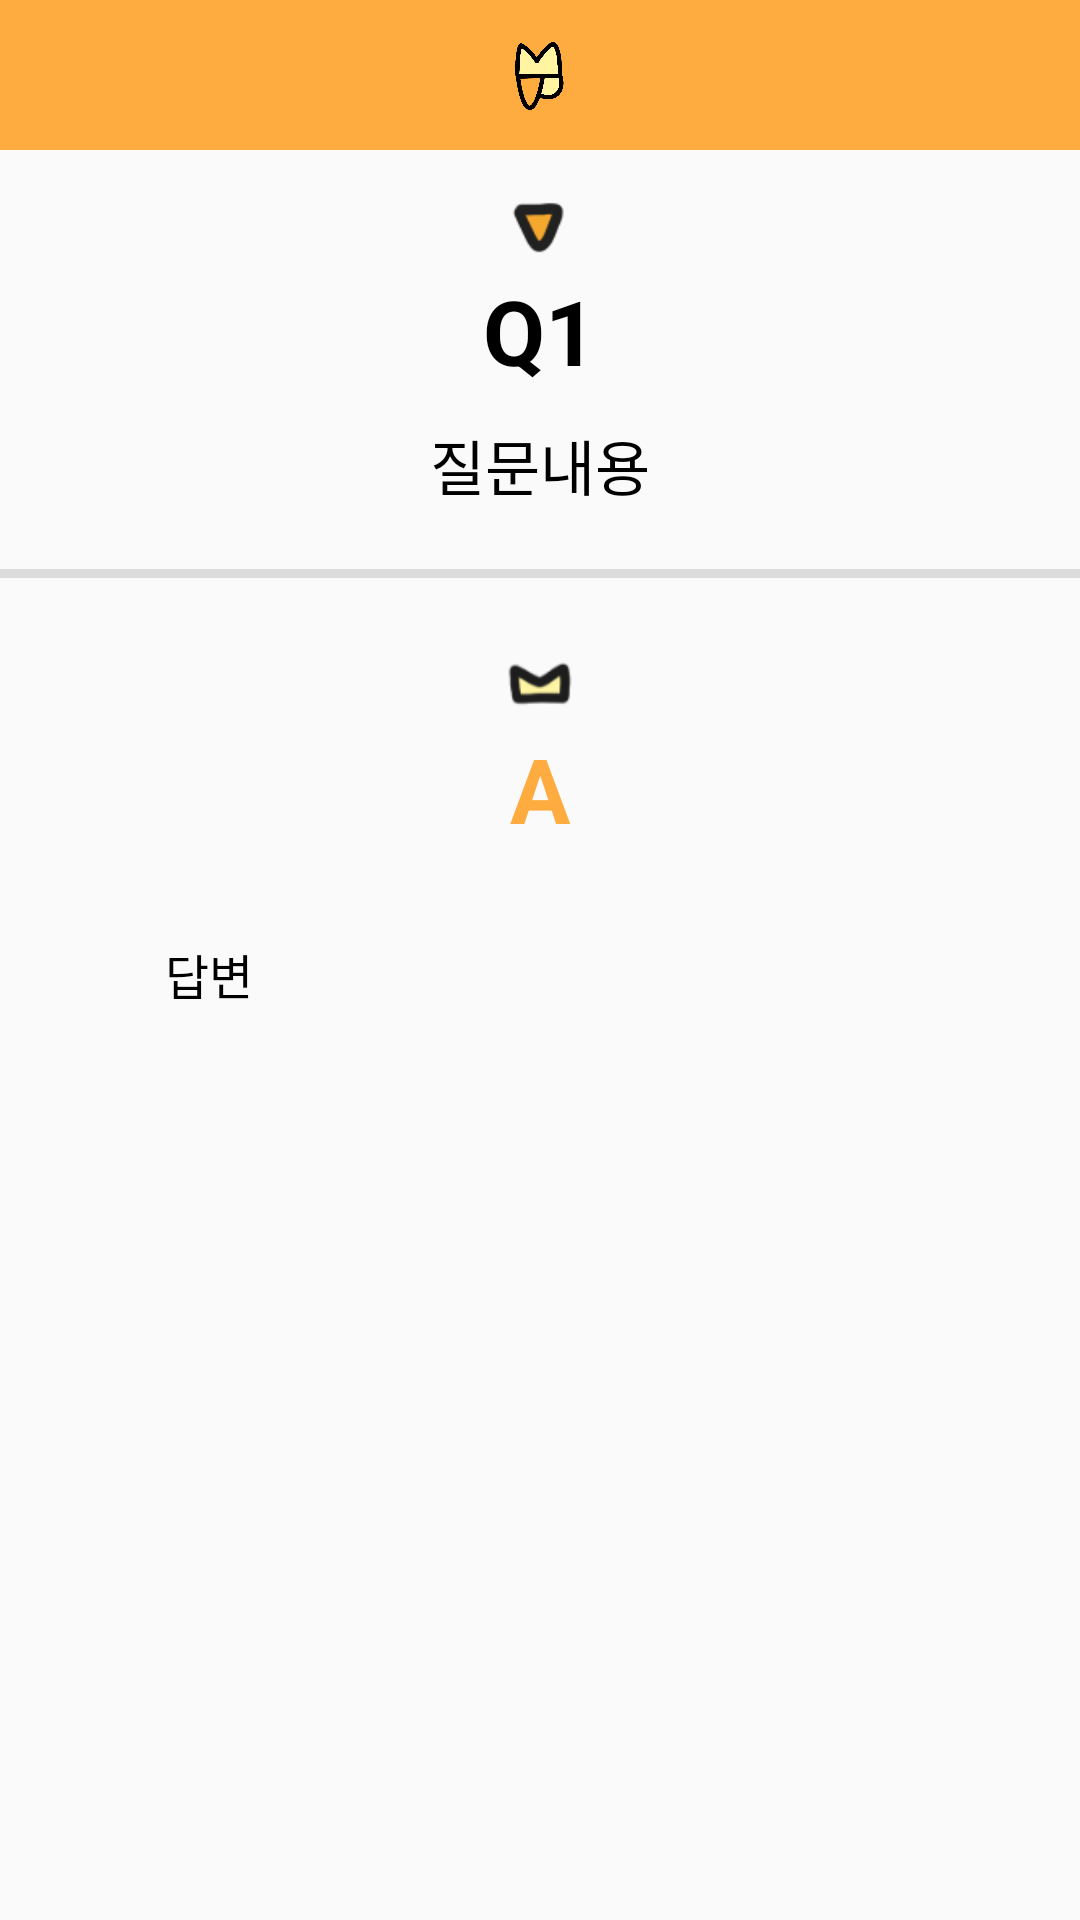

Icons on this 1080px x 1920px Android screen, each with its box as (x1=x1, y1=y1, x2=x2, y2=y2):
rogo: (x1=515, y1=42, x2=564, y2=110)
